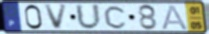0: (24, 4, 44, 31)
8: (138, 4, 159, 31)
A: (161, 5, 190, 31)
C: (103, 5, 129, 30)
U: (74, 3, 103, 31)
V: (43, 3, 69, 31)
